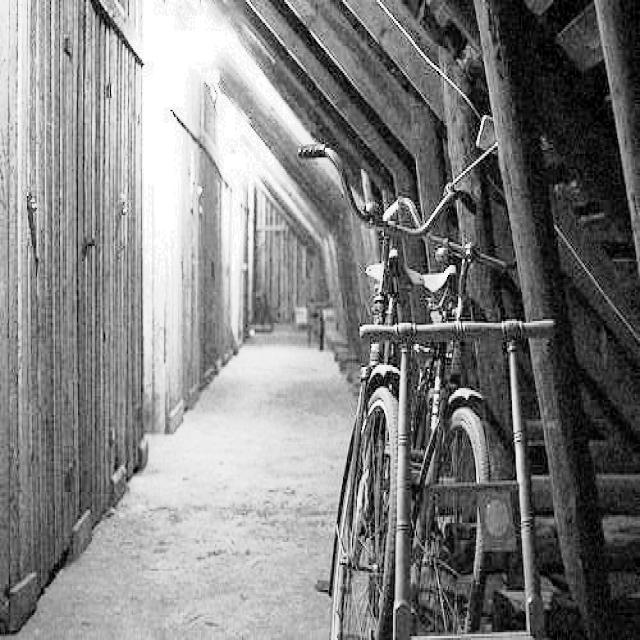Bicycle: (420, 109, 565, 640), (294, 117, 427, 640)
